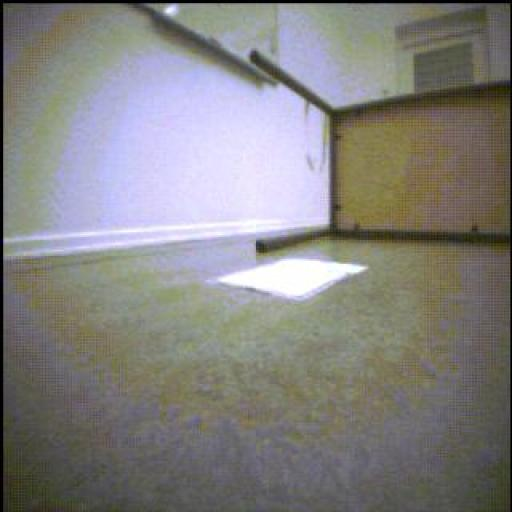Pad: (216, 259, 368, 302)
